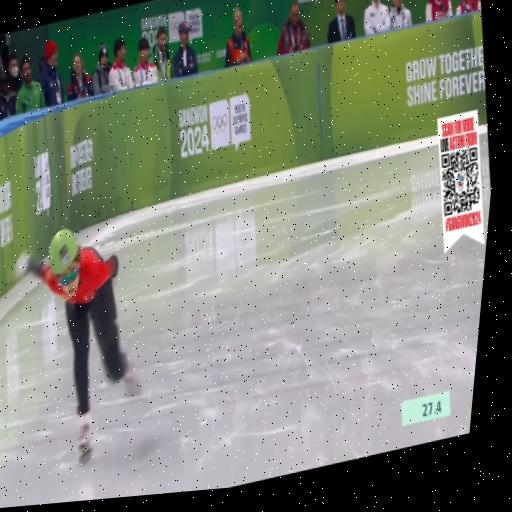Skater: (16, 229, 140, 456)
